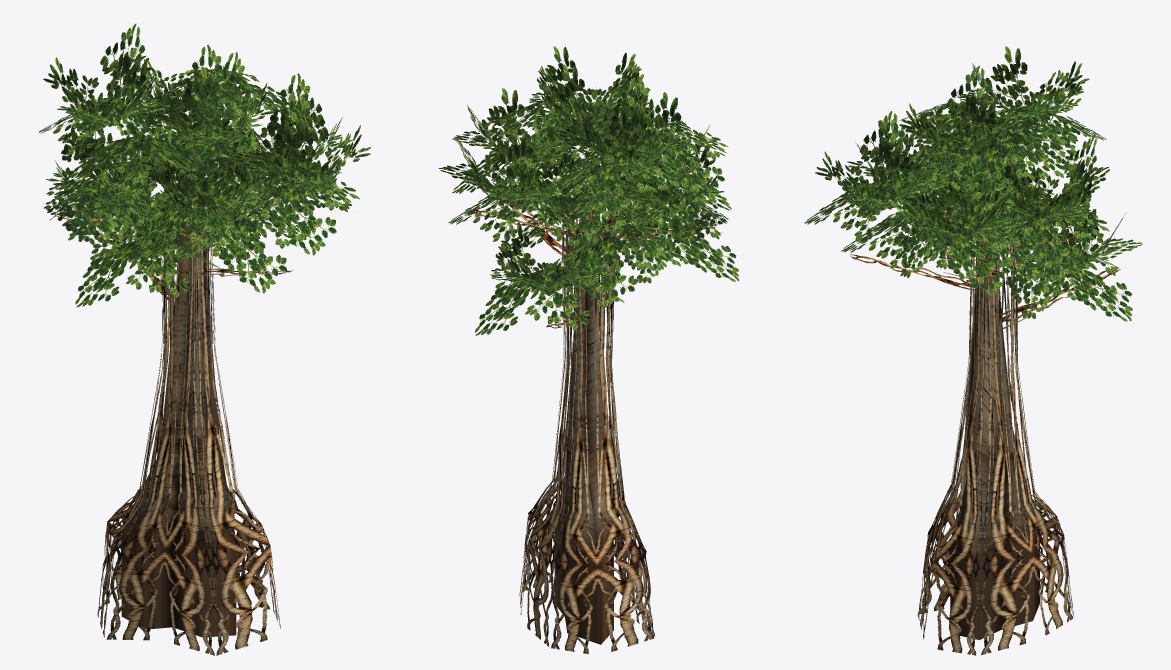
File: strangler_0.glb
3 views of the same model, side by side, from view 1: azimuth 30°, elevation 25°; view 2: azimuth 150°, elevation 25°; view 3: azimuth 270°, elevation 25° (orthographic). The views are drawn at different scales.
Parts seen in each view (by area): view 1: strangler_0; view 2: strangler_0; view 3: strangler_0.
Part boxes in pixels (x1,y1,x2,y2): strangler_0: (39,24,370,655); strangler_0: (438,46,739,654); strangler_0: (804,46,1142,655).
Size of the model in its own units: 10.1 by 17.62 by 10.78.
2 materials, 2 textured.
